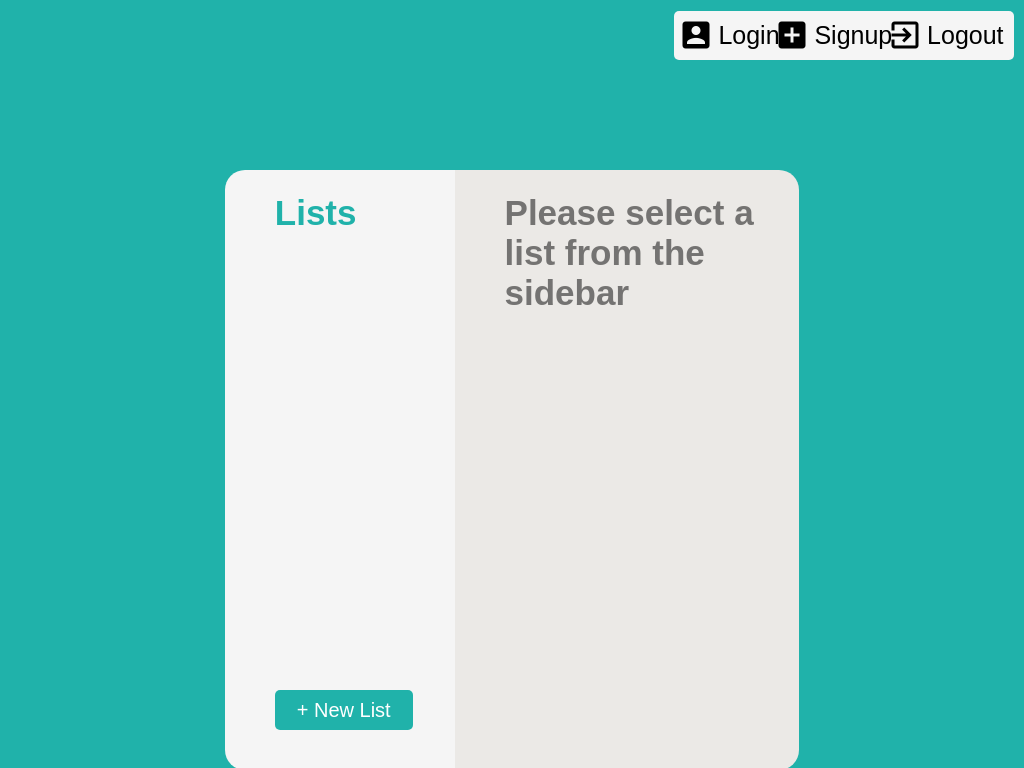
Test: Auth test › Logout
The width and height of the screenshot is (1024, 768).
Click the element showing "Logout": click(949, 36) [893, 21, 1004, 50]
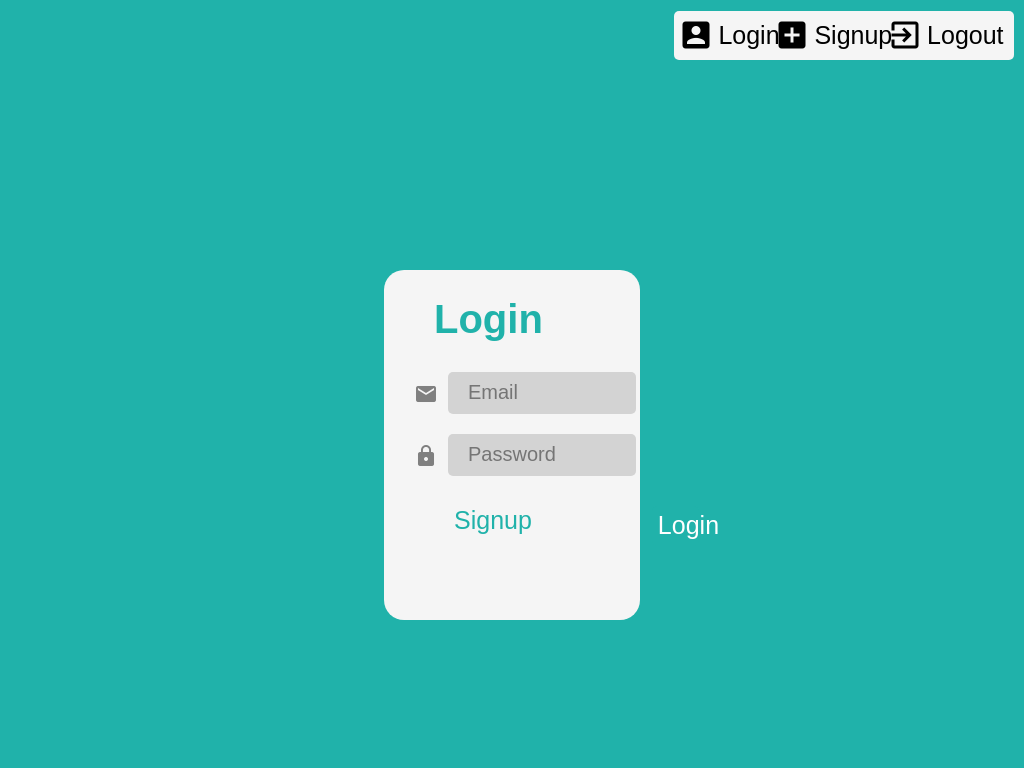
Expected: the heading "Login" is shown, [434, 297, 543, 341]
